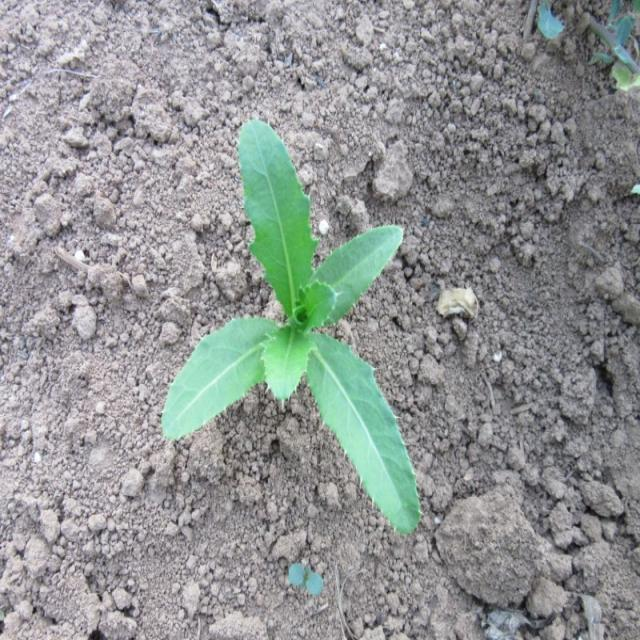cs: (158, 114, 425, 540)
